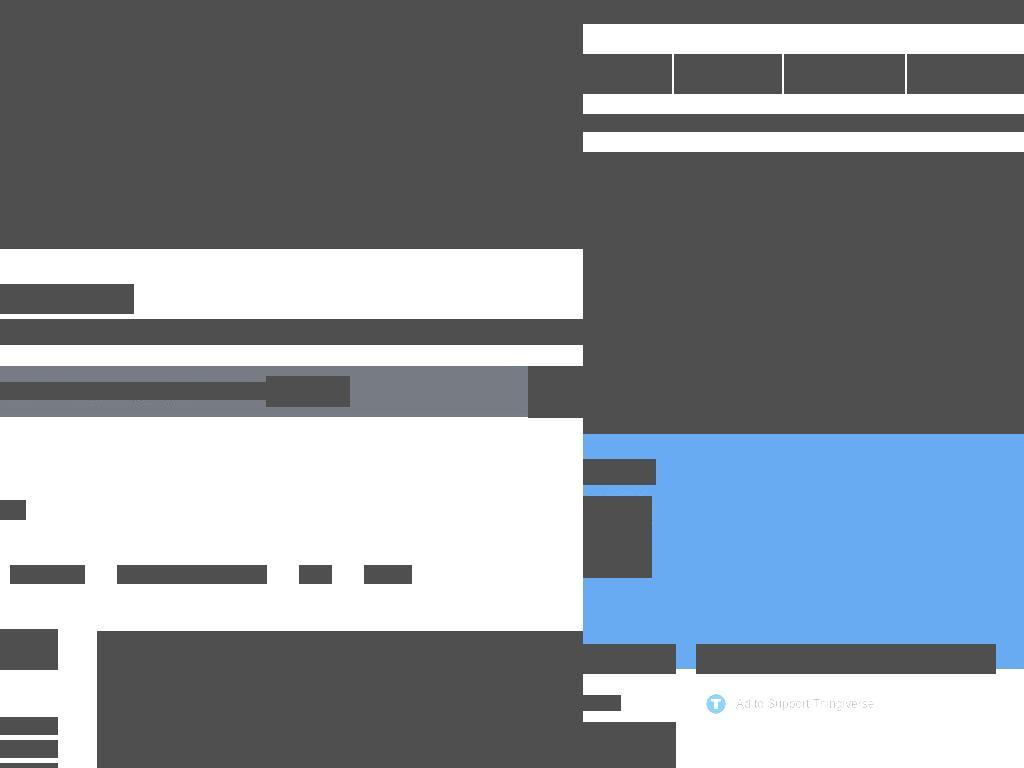button: (583, 152, 1024, 360), (696, 644, 996, 674), (784, 54, 905, 94), (907, 54, 1024, 94), (674, 54, 782, 94), (583, 54, 672, 94), (528, 366, 583, 418), (583, 644, 676, 674), (266, 376, 350, 407), (930, 360, 996, 394), (854, 360, 911, 394), (720, 360, 761, 394)
field: (110, 81, 583, 141), (583, 366, 676, 382)
heading: (0, 7, 583, 61), (0, 319, 583, 345), (0, 284, 134, 314)
image: (0, 0, 583, 249), (583, 152, 1024, 360), (97, 631, 583, 768), (583, 360, 1024, 434), (118, 96, 148, 126), (897, 368, 911, 382), (711, 699, 721, 709)
link: (117, 565, 267, 584), (780, 360, 835, 394), (10, 565, 85, 584), (364, 565, 412, 584), (299, 565, 332, 584)
text: (583, 114, 1024, 132), (706, 648, 968, 670), (0, 382, 267, 400), (736, 693, 875, 715), (583, 648, 648, 670), (854, 367, 891, 381), (97, 631, 111, 651), (110, 631, 120, 651)
